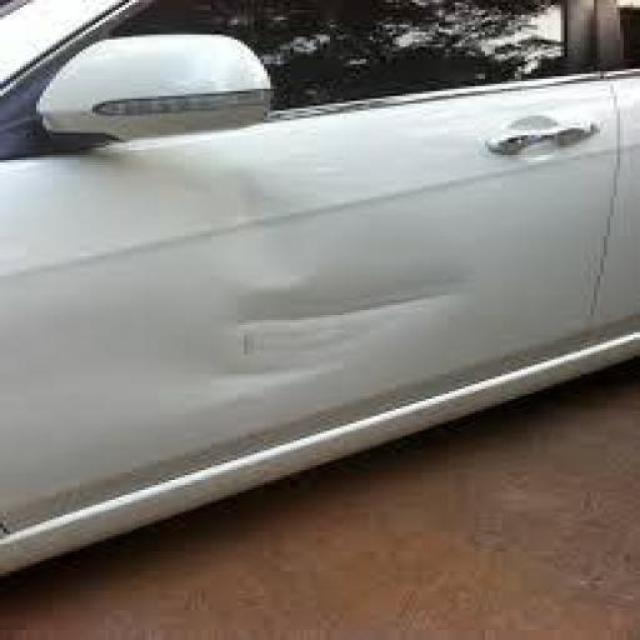dent: (203, 160, 496, 397)
